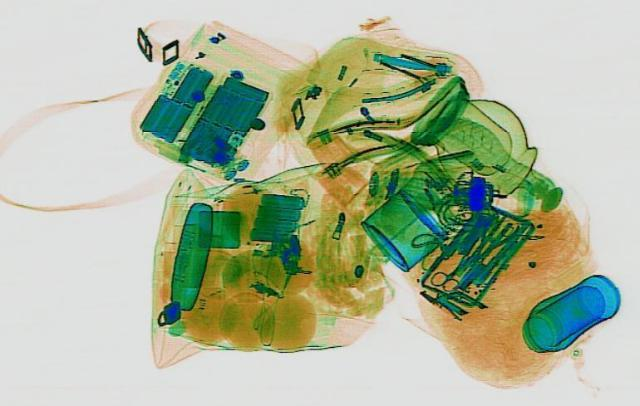Pliers: (454, 211, 524, 266)
Scissors: (424, 249, 480, 289)
